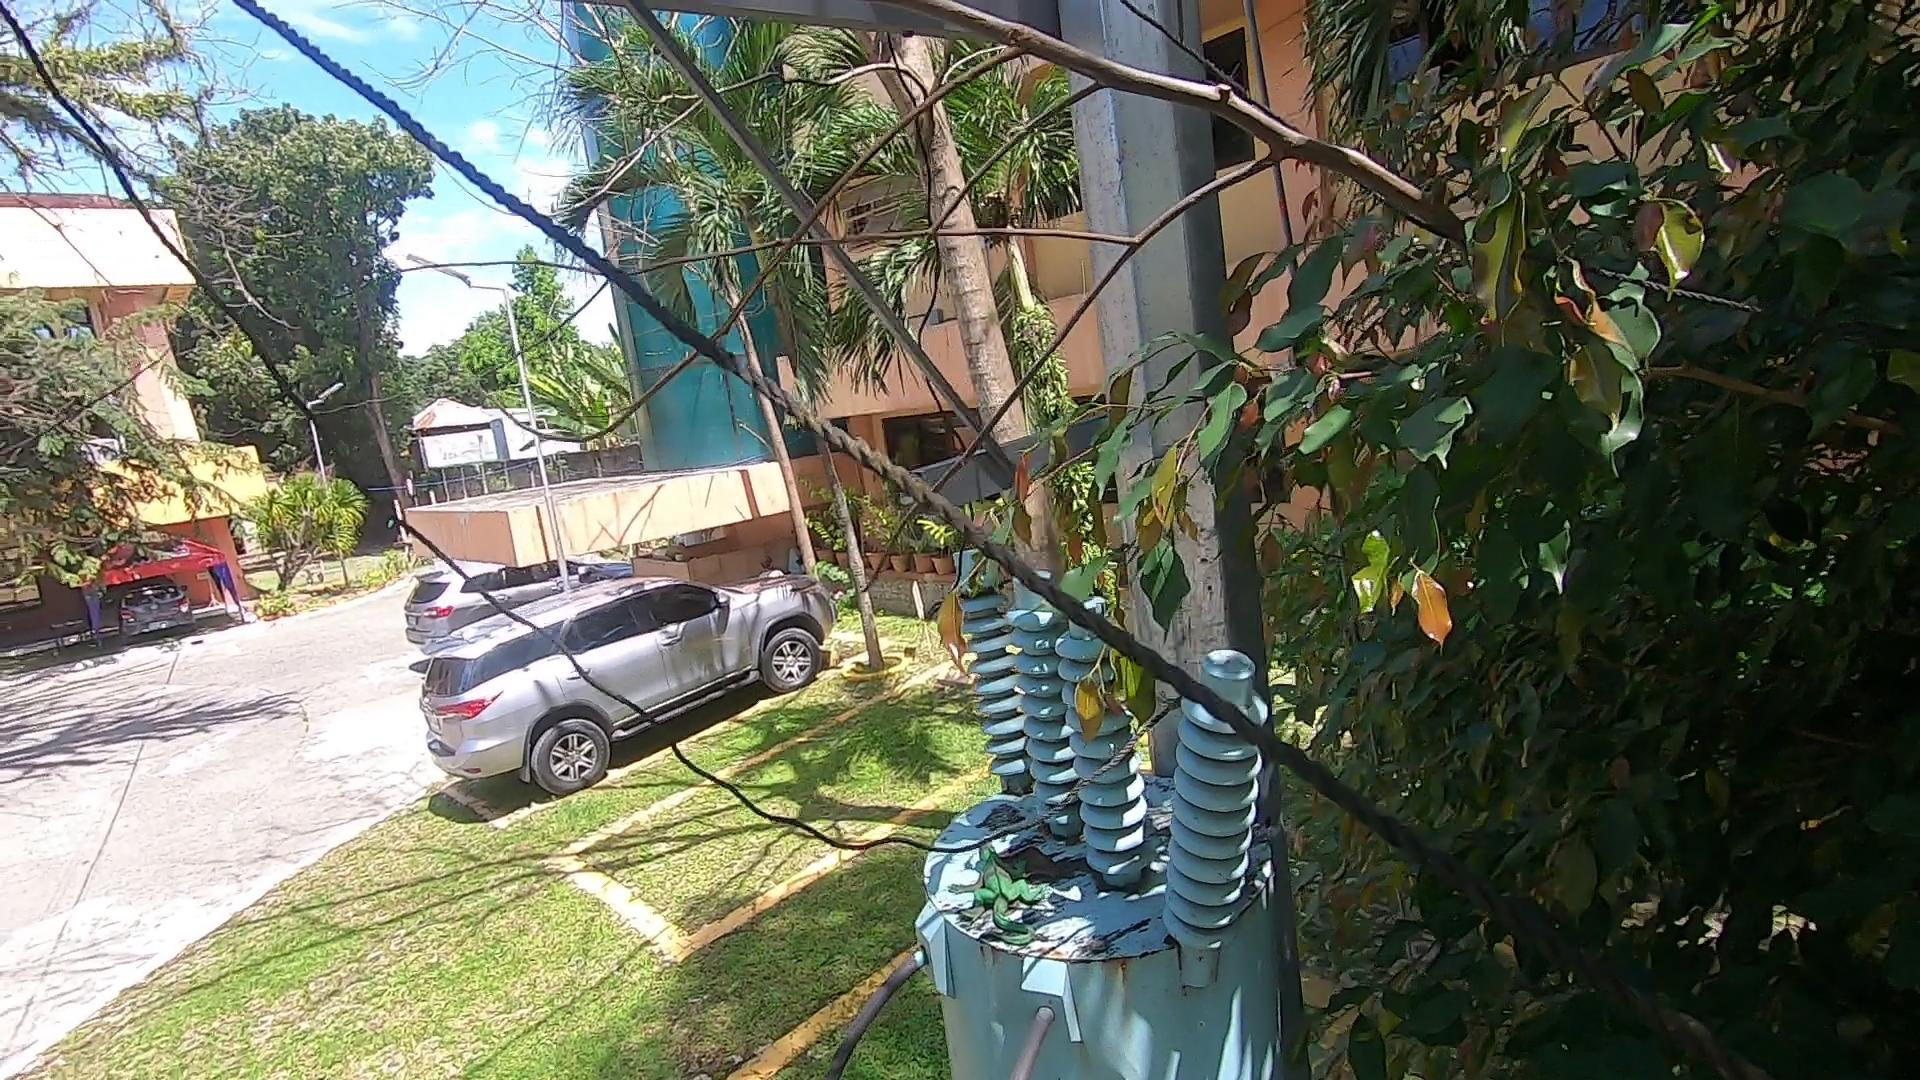leaf: (1006, 851, 1083, 881)
tree branch: (318, 1, 1609, 640)
